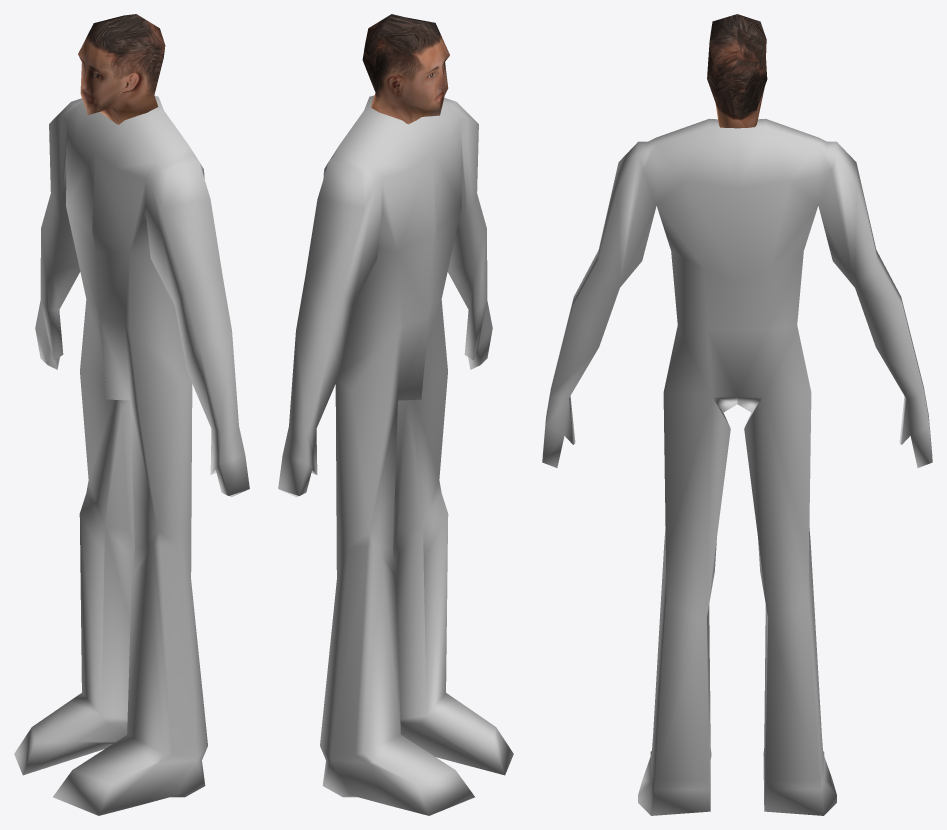
Rendered from PsxMan.fbx.
3 views of the same model, side by side, from view 1: azimuth 30°, elevation 25°; view 2: azimuth 150°, elevation 25°; view 3: azimuth 270°, elevation 25° (orthographic). The views are drawn at different scales.
Visible parts, largest first — view 1: Body, Face; view 2: Body, Face; view 3: Body, Face.
Part boxes in pixels (<box>): Body: <box>14,95,249,815</box>; Face: <box>78,14,165,124</box>; Body: <box>278,95,513,815</box>; Face: <box>362,14,449,124</box>; Body: <box>542,118,932,815</box>; Face: <box>707,14,767,128</box>.
Bounding box in the file's own units: 12 × 64.42 × 29.28.
